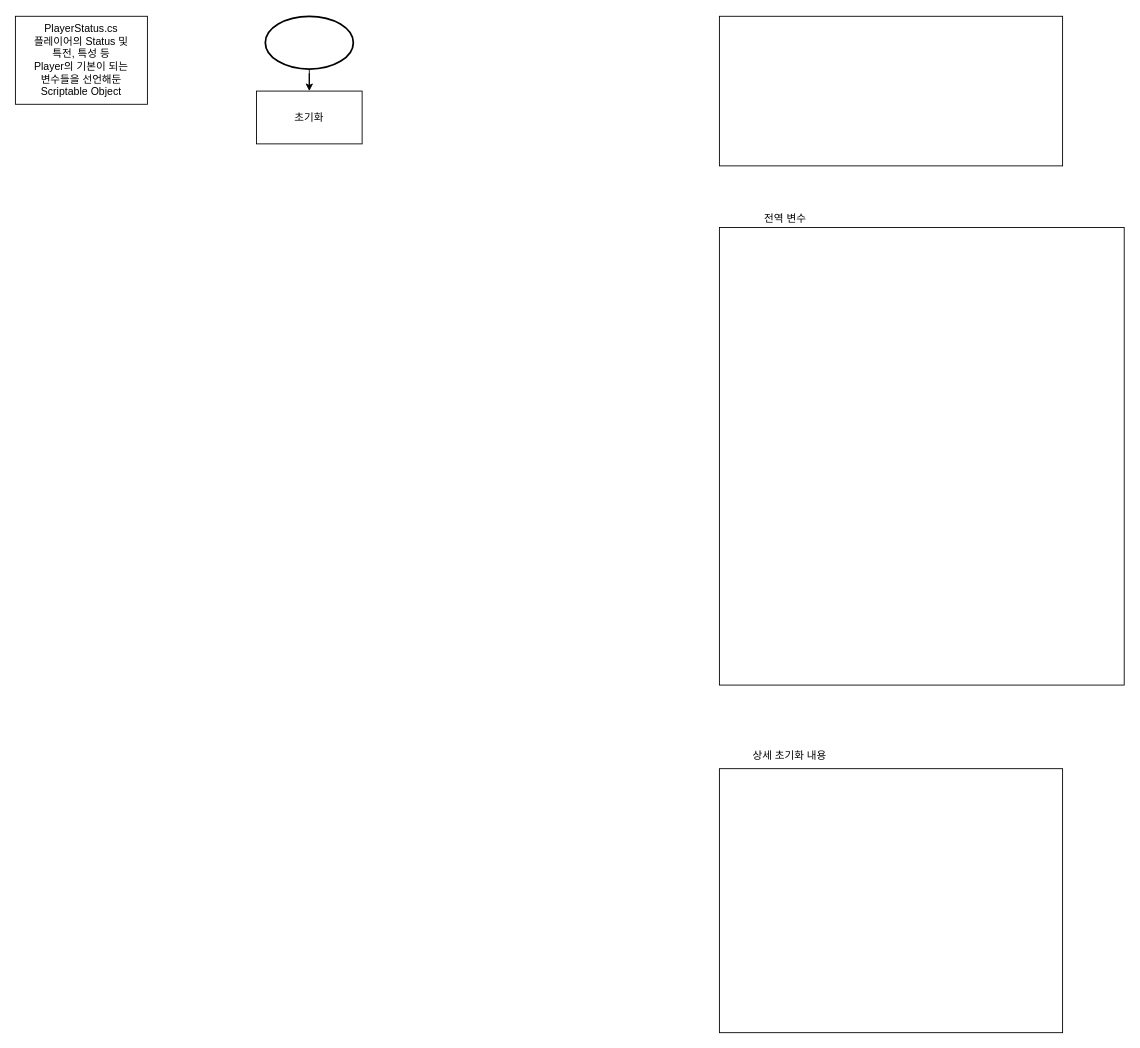
Some shapes in this 1140 by 1048 pixel diagram are drawn without their labels. The centre of each missing label's shape, as x and y in pixels:
Start: (309,42)
수정 사항 2021-07-26 Player Status 작성 시작: (891,90)
